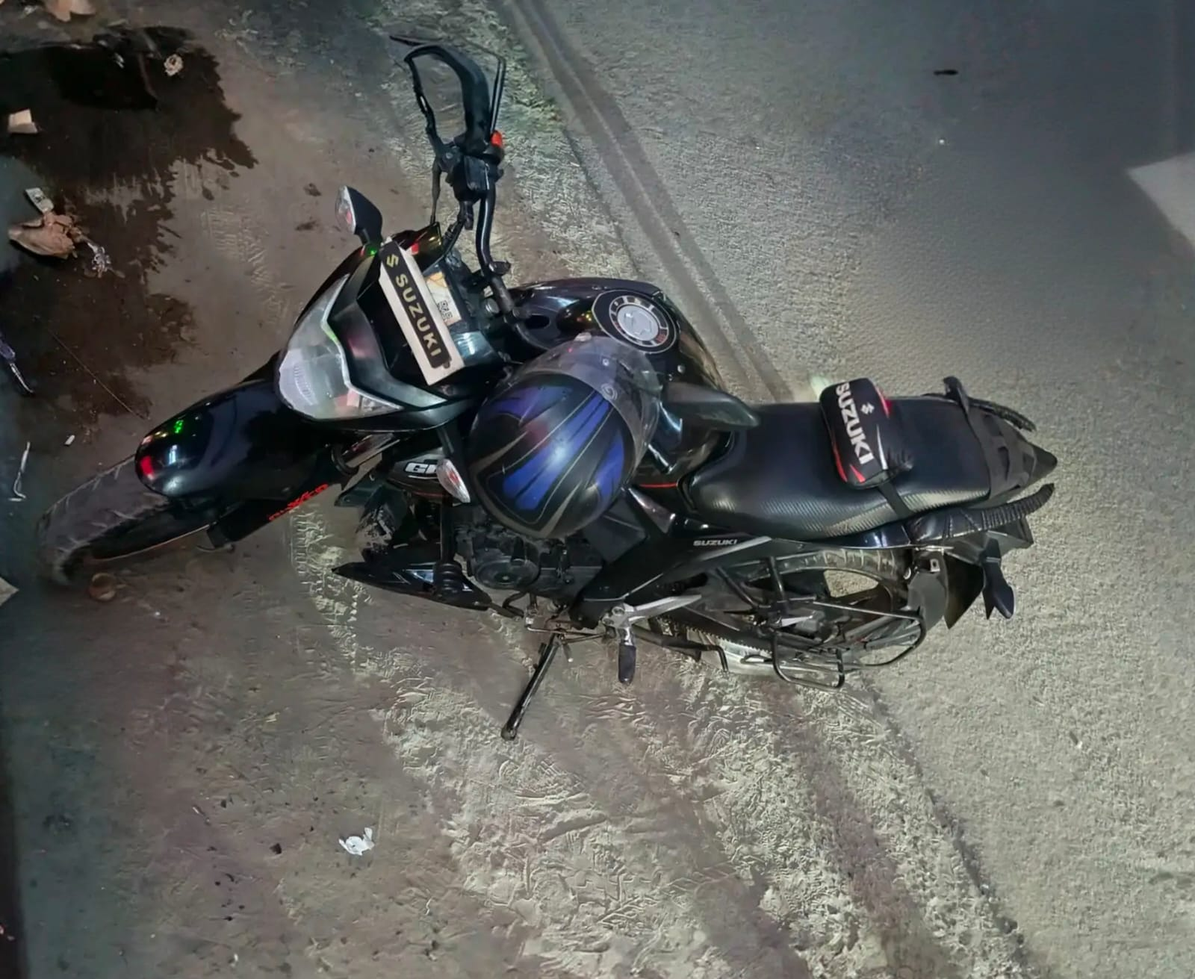Bikes: (10, 36, 1069, 747)
